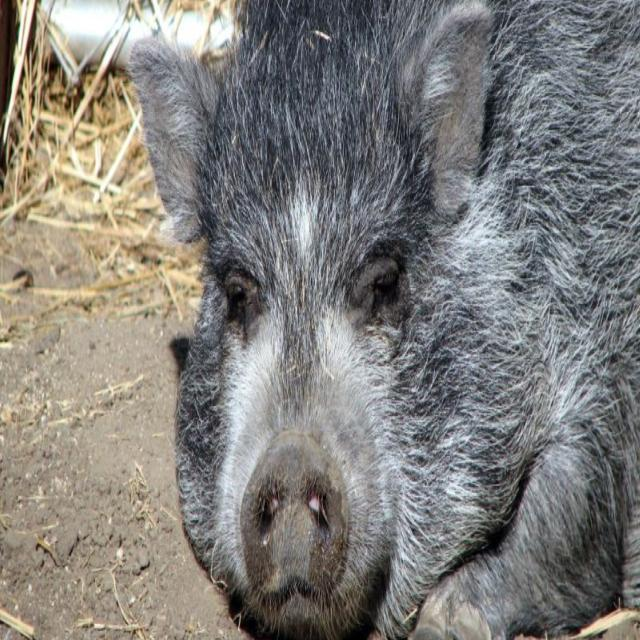pig: (124, 0, 640, 640)
